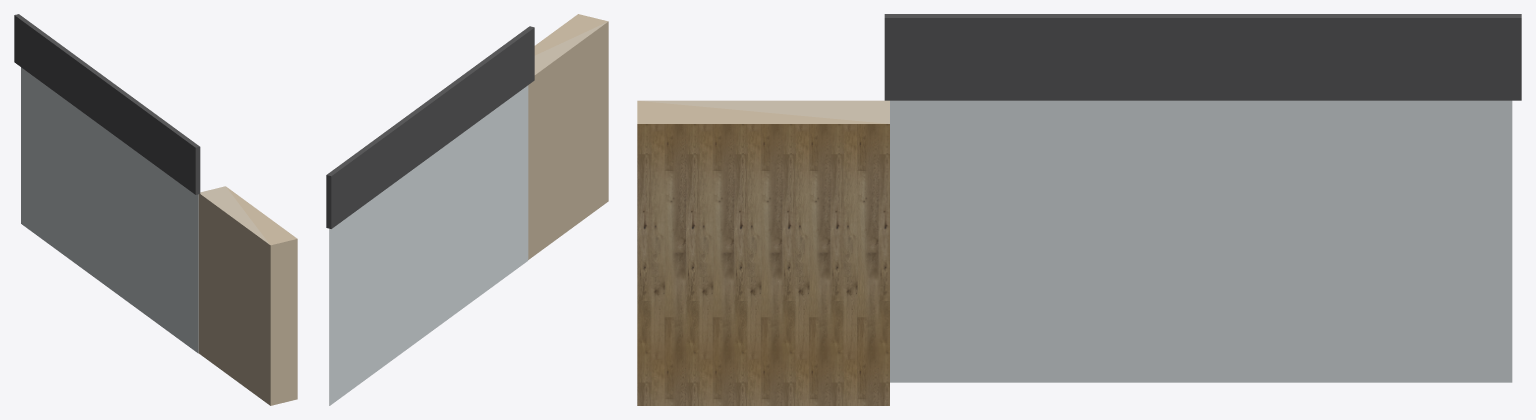
Rendered from room_end_wall_0.glb.
3 views of the same model, side by side, from view 1: azimuth 30°, elevation 25°; view 2: azimuth 150°, elevation 25°; view 3: azimuth 270°, elevation 25° (orthographic). The views are drawn at different scales.
Parts seen in each view (by area): view 1: paint_matte_4, paint_matte_1, paint_matte_0, paint_matte_2; view 2: paint_matte_4, paint_matte_1, paint_matte_0, paint_matte_2; view 3: paint_matte_4, paint_matte_texture_0, paint_matte_0, paint_matte_2, paint_matte_1.
Boxes of the visible parts, x1=… form: paint_matte_4: x1=21, y1=67, x2=198, y2=353; paint_matte_1: x1=198, y1=187, x2=297, y2=405; paint_matte_0: x1=14, y1=14, x2=200, y2=194; paint_matte_2: x1=200, y1=186, x2=269, y2=244; paint_matte_4: x1=329, y1=85, x2=528, y2=405; paint_matte_1: x1=528, y1=14, x2=608, y2=259; paint_matte_0: x1=326, y1=26, x2=534, y2=228; paint_matte_2: x1=534, y1=22, x2=607, y2=74; paint_matte_4: x1=890, y1=100, x2=1512, y2=382; paint_matte_texture_0: x1=637, y1=124, x2=889, y2=405; paint_matte_0: x1=884, y1=14, x2=1521, y2=100; paint_matte_2: x1=638, y1=100, x2=889, y2=123; paint_matte_1: x1=637, y1=101, x2=887, y2=123.
Bounding box in the file's own units: 0.7 × 4.4 × 9.66.
6 materials, 1 textured.
